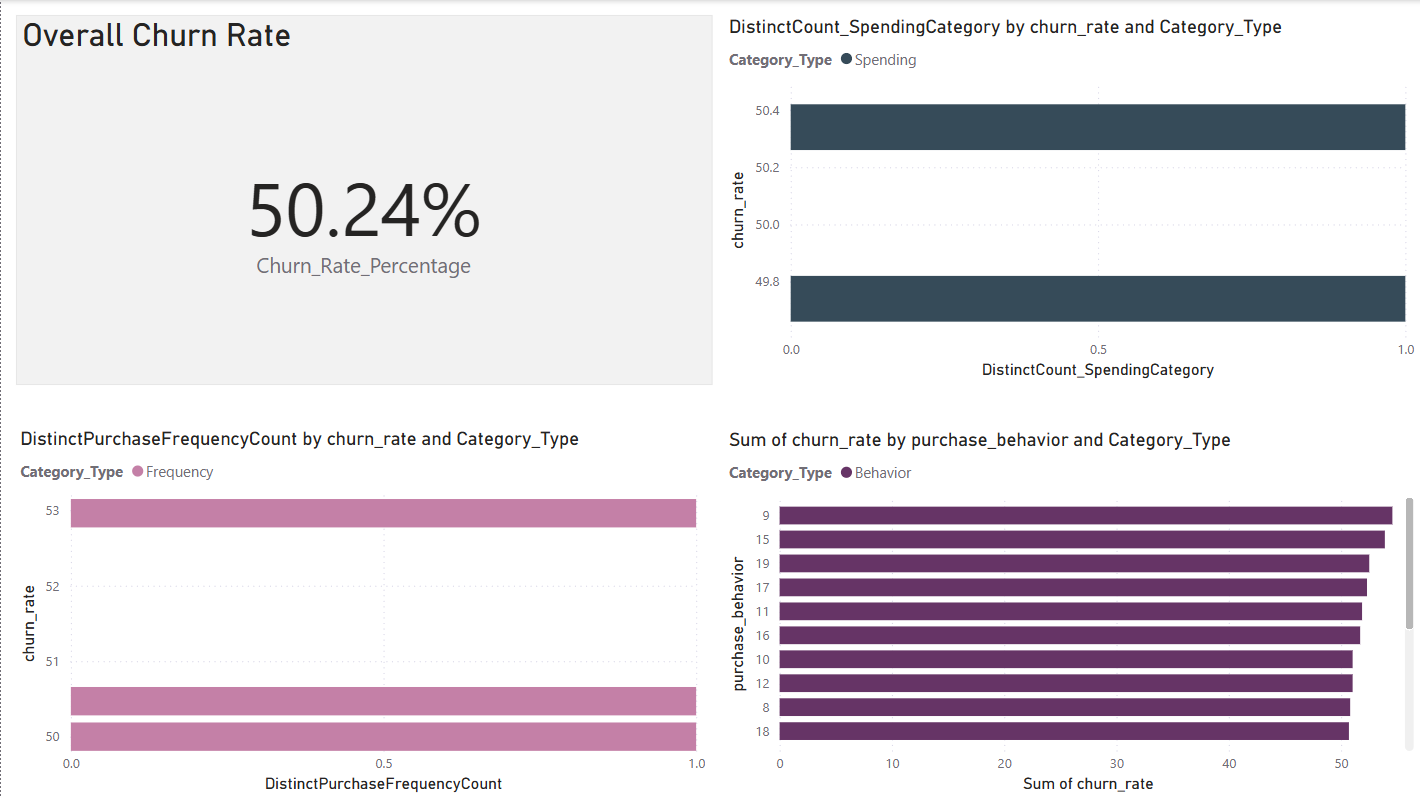

The dashboard page shown, as its layout file describes it:
{"tool":"powerbi","page":{"name":"Page 1","canvas":[1280,720],"ordinal":0},"visuals":[{"type":"clusteredBarChart","fields":{"Category":["churn_overall.purchase_behavior"],"Y":["Sum(churn_overall.churn_rate)"],"Series":["churn_overall.Category_Type"]},"box":[651,386.5,627.7,333.3],"z":0},{"type":"clusteredBarChart","fields":{"Category":["churn_overall.churn_rate"],"Series":["churn_overall.Category_Type"],"Y":["churn_overall.DistinctPurchaseFrequencyCount"]},"box":[12.5,385.8,627.6,334.5],"z":1000},{"type":"clusteredBarChart","fields":{"Category":["churn_overall.churn_rate"],"Series":["churn_overall.Category_Type"],"Y":["churn_overall.DistinctCount_SpendingCategory"]},"box":[651,14,628,333],"z":2000},{"type":"card","title":"Overall Churn Rate","fields":{"Values":["churn_overall.Churn_Rate_Percentage"]},"box":[13,13,627.7,333.3],"z":3000}]}

Visuals, with their boxes in screenshot pixels (x1, y1, x2, y2), scaled from the page's 1280x720 canvas onto the 1420x797 screenshot:
clusteredBarChart - churn_overall.purchase_behavior x Sum(churn_overall.churn_rate): Rect(722, 428, 1419, 796)
clusteredBarChart - churn_overall.churn_rate x churn_overall.Category_Type: Rect(14, 427, 710, 796)
clusteredBarChart - churn_overall.churn_rate x churn_overall.Category_Type: Rect(722, 15, 1419, 384)
"Overall Churn Rate" card: Rect(14, 14, 711, 383)
